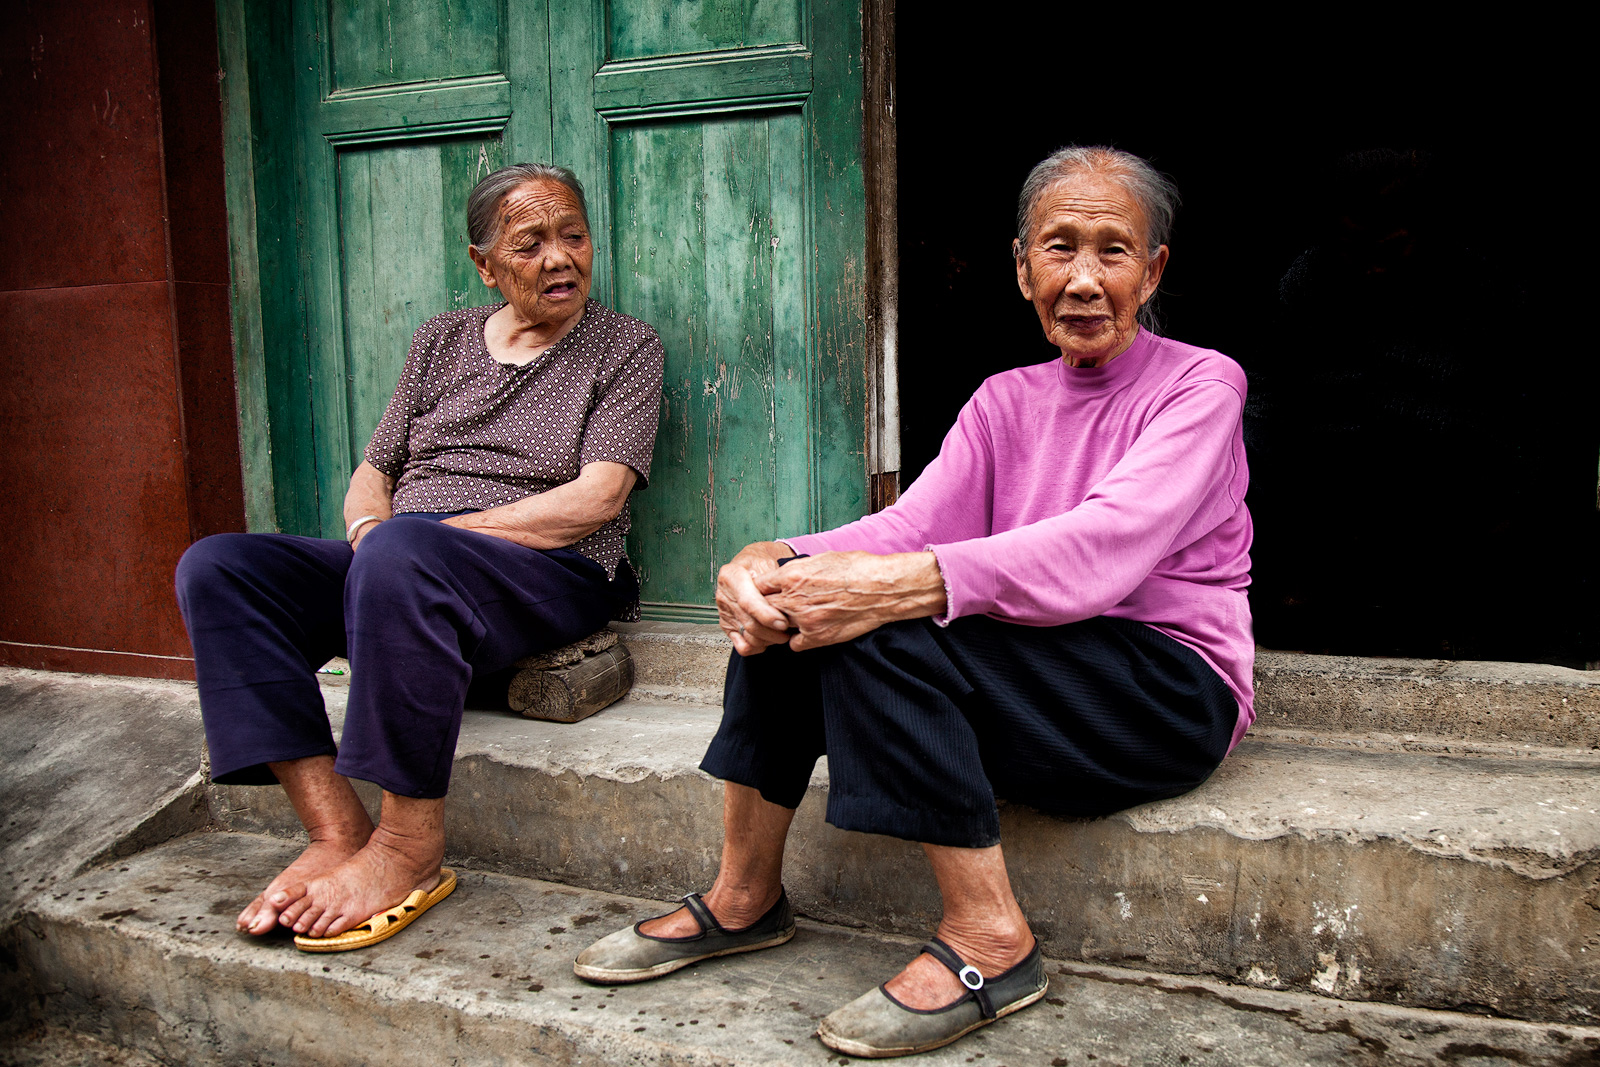Person: (572, 128, 1301, 1065), (127, 136, 678, 1019)
